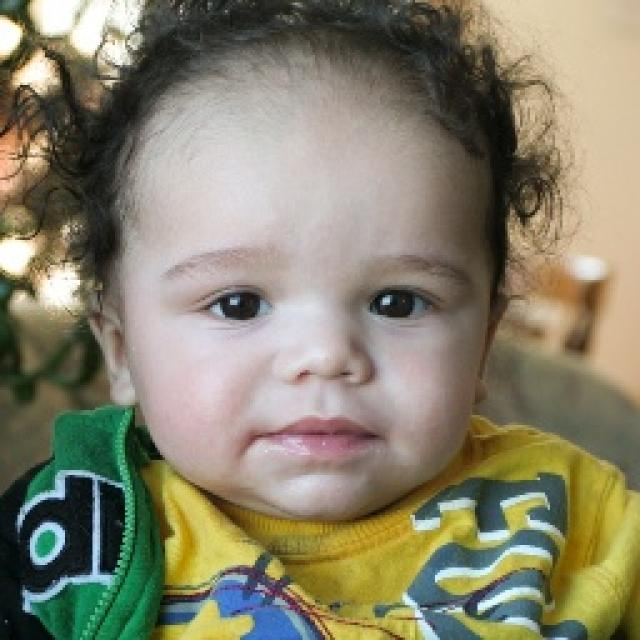earlobe: (108, 365, 137, 407), (474, 362, 492, 405)
eye: (199, 288, 276, 324), (364, 289, 436, 323)
nose: (277, 376, 373, 412)
wholeear: (86, 304, 136, 407), (473, 290, 511, 406)
